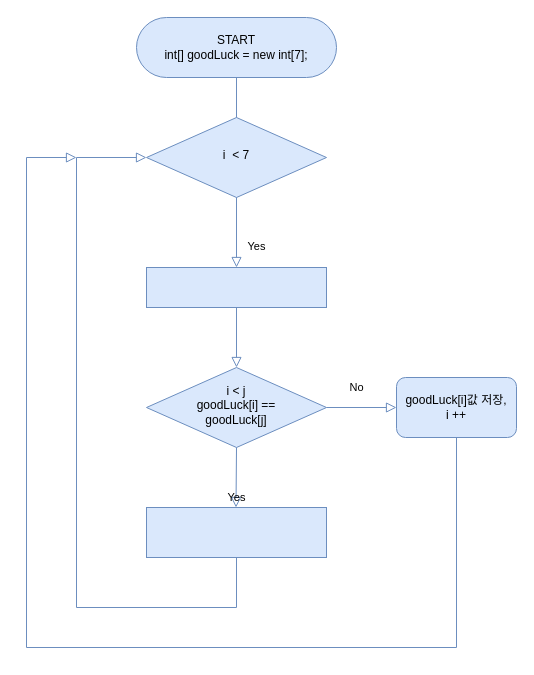
The diagram is 534 pixels wide and 675 high, and some of its shapes have lost their labels. Each missing label, with the box of its shape:
goodLuck[i] = r.Next(1, 46);: (146, 266, 326, 308)
i --: (146, 506, 326, 558)
